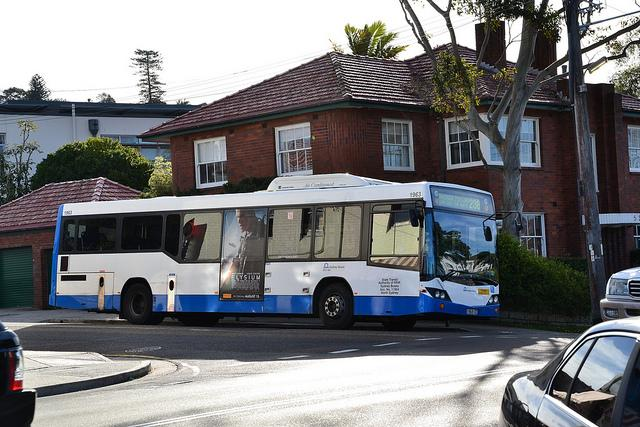bus: (52, 180, 501, 329)
car: (500, 314, 640, 421), (600, 266, 640, 323)
